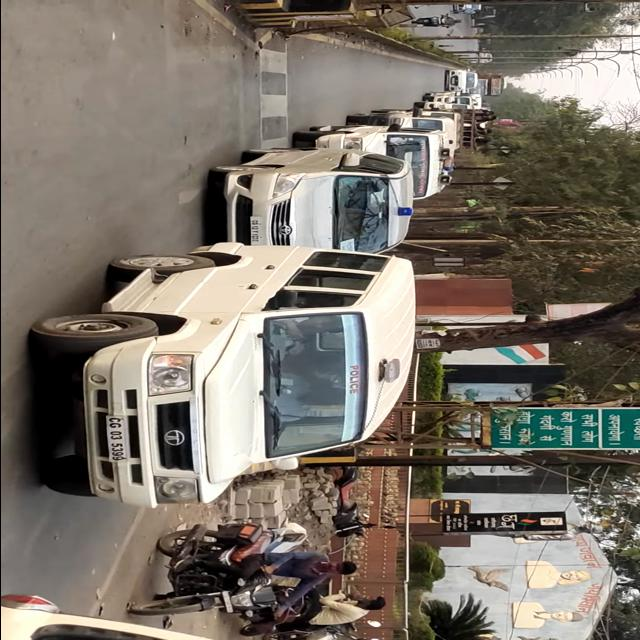emergency-vehicles: (18, 241, 420, 510), (208, 140, 422, 271)
